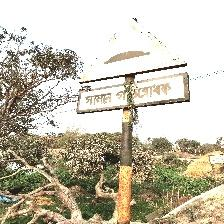Speed-breaker: (78, 16, 190, 103)
